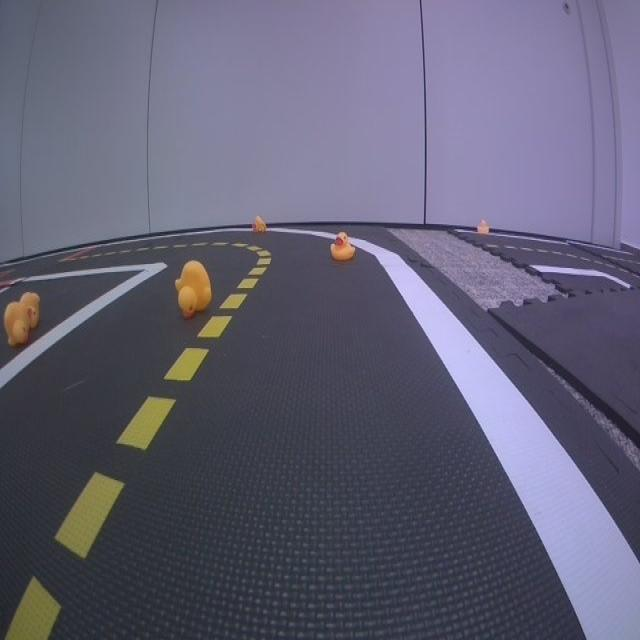duckie: (175, 259, 212, 318), (3, 302, 30, 348), (328, 232, 356, 262), (20, 292, 40, 328)
